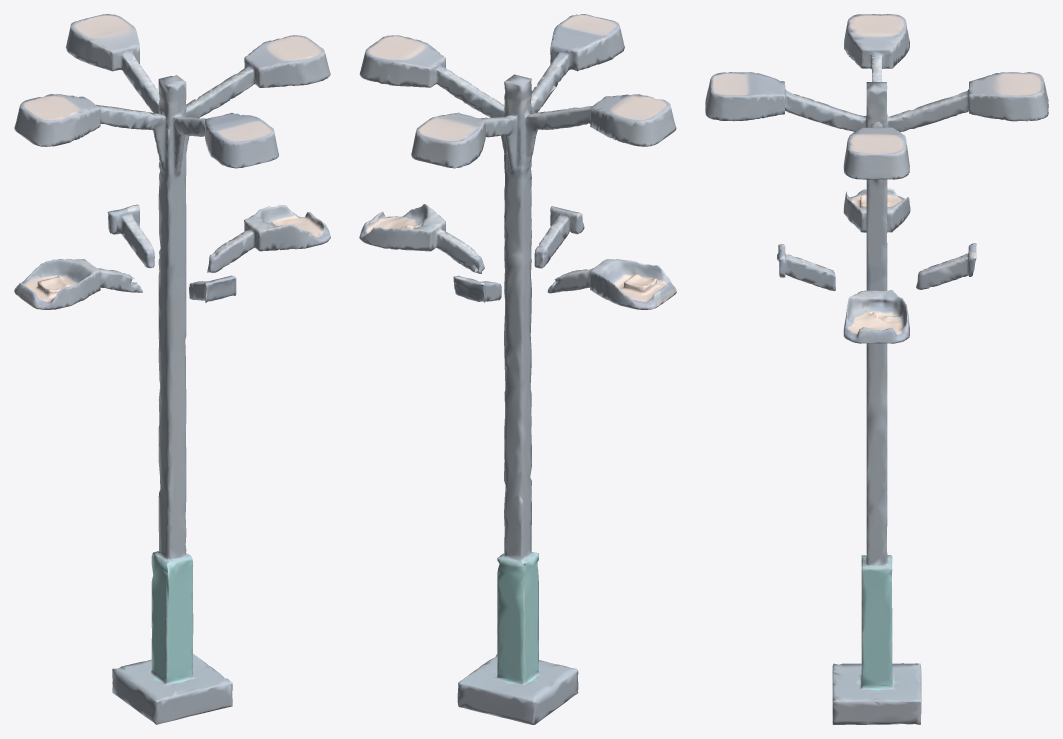
File: street_lamp.glb
The picture shows the model from 3 angles, left to right: view 1: azimuth 30°, elevation 25°; view 2: azimuth 150°, elevation 25°; view 3: azimuth 270°, elevation 25°; orthographic projection.
Visible parts, largest first — view 1: model; view 2: model; view 3: model.
Boxes of the visible parts, <box> form: model: <box>14,14,330,724</box>; model: <box>359,14,676,724</box>; model: <box>705,14,1048,724</box>.
Bounding box in the file's own units: 0.9534 × 1.9 × 0.9509.
Materials: 1 (1 with a texture image).
